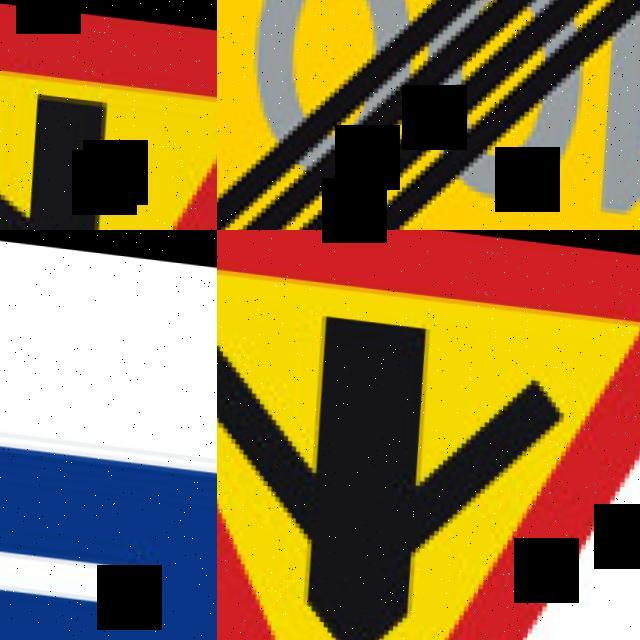139: (0, 0, 217, 230)
166: (217, 230, 640, 640)
21: (0, 384, 217, 640)
end of the speed limit: (217, 0, 640, 230)
